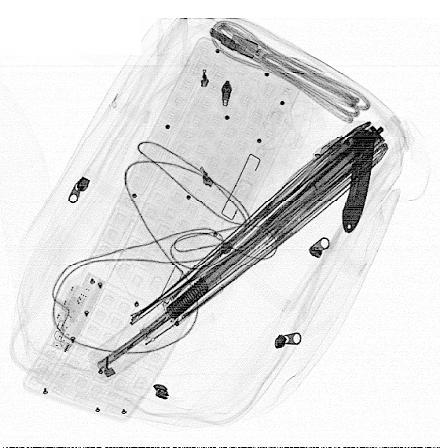Knife: (296, 127, 375, 234)
